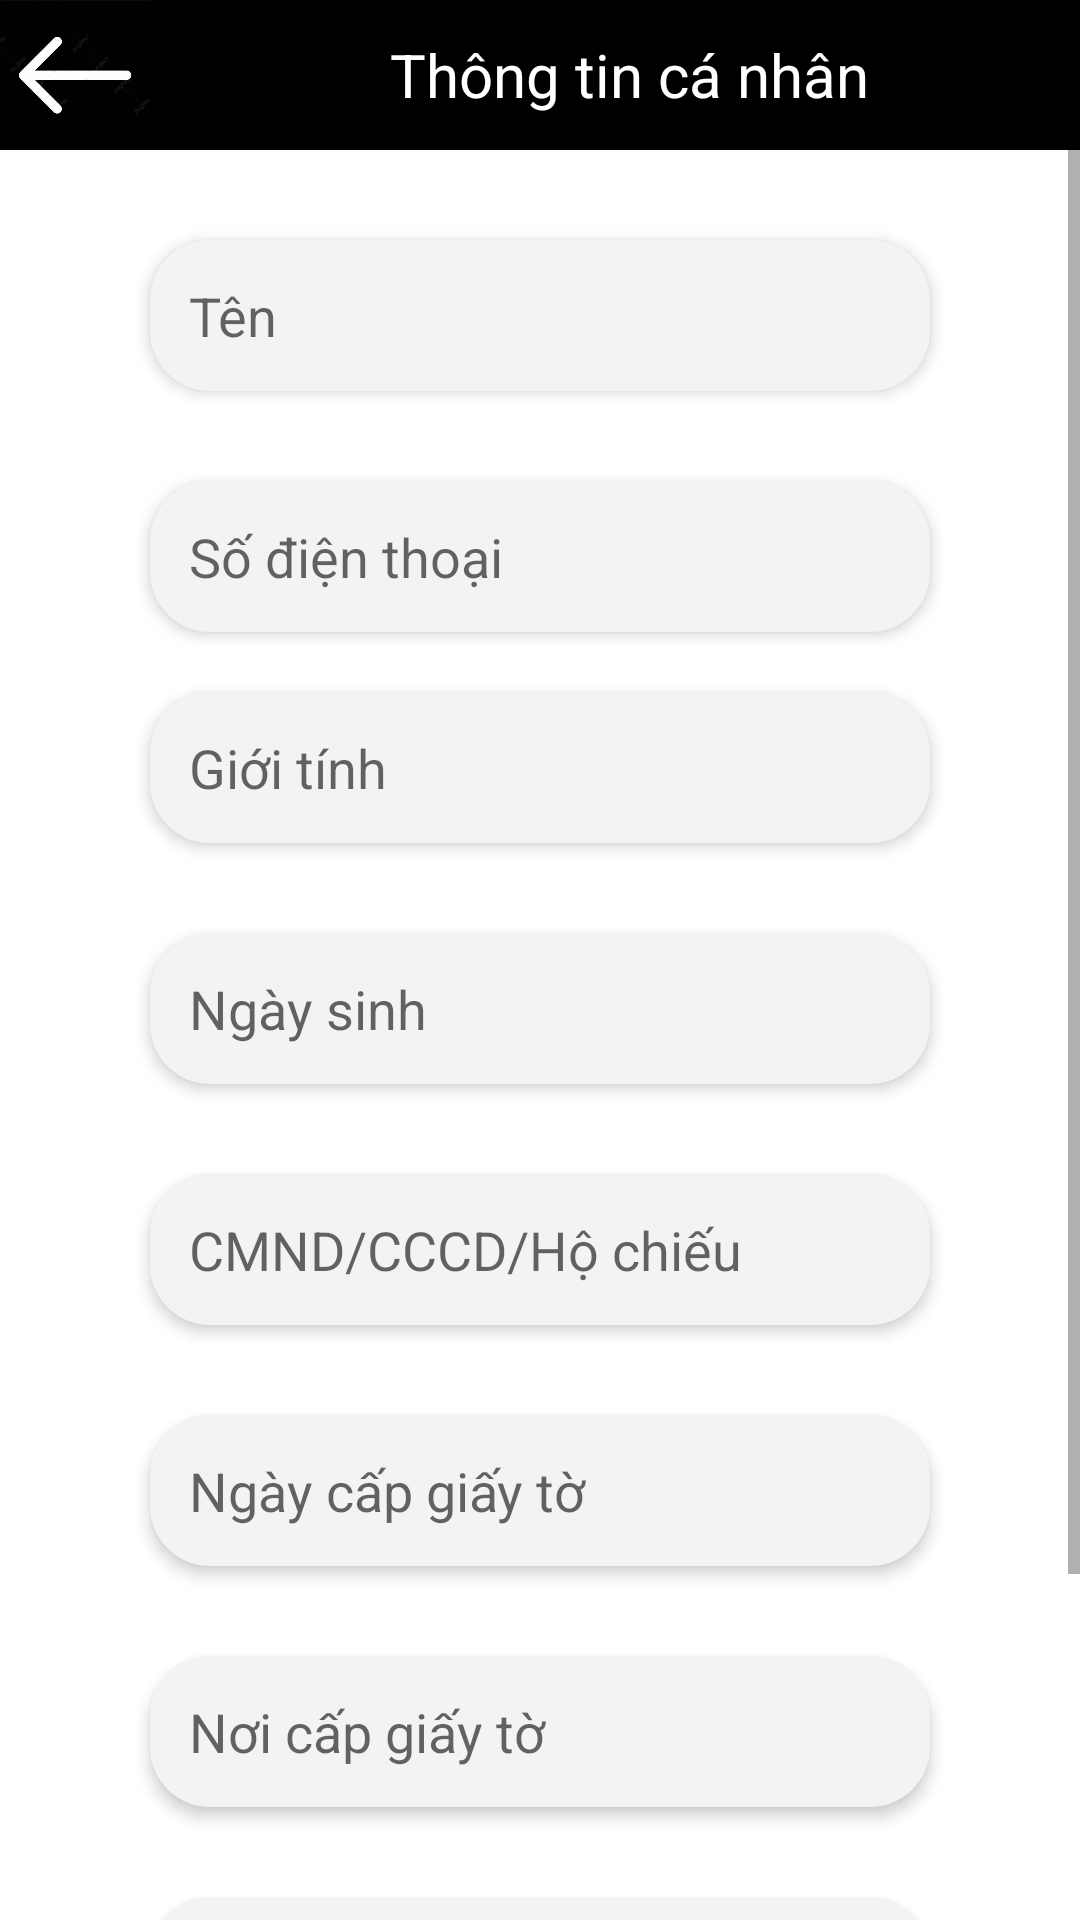

Icon click points for this 1080w x 1920h phone screenshot, format point (x, y):
muiten: point (75, 75)
